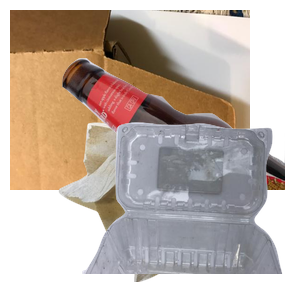cardboard: (10, 10, 250, 190)
glass: (60, 56, 300, 236)
plastic: (80, 120, 300, 300)
trash: (56, 120, 247, 300)
